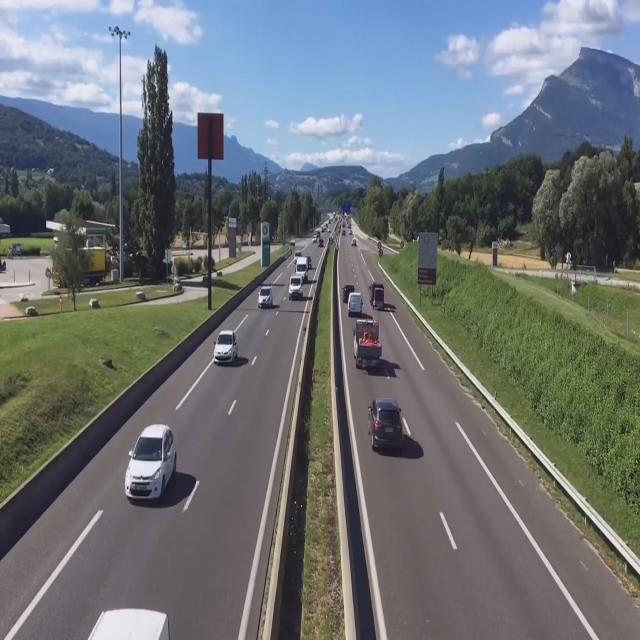car: (124, 421, 177, 504), (68, 606, 187, 640), (366, 398, 407, 458), (212, 331, 238, 368), (260, 284, 276, 310), (289, 277, 305, 301), (347, 292, 362, 316), (371, 282, 383, 308), (344, 281, 354, 303)
truck: (352, 316, 382, 374)
